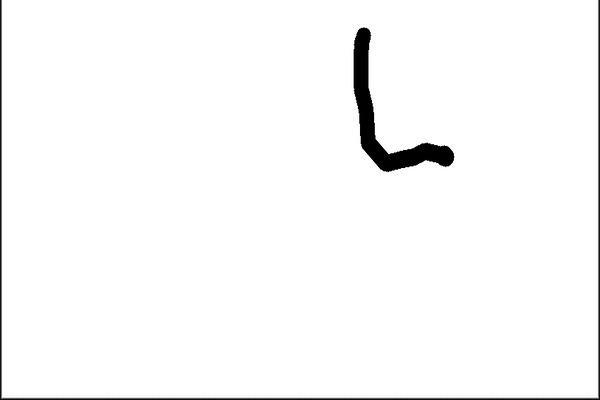L: (345, 18, 462, 178)
